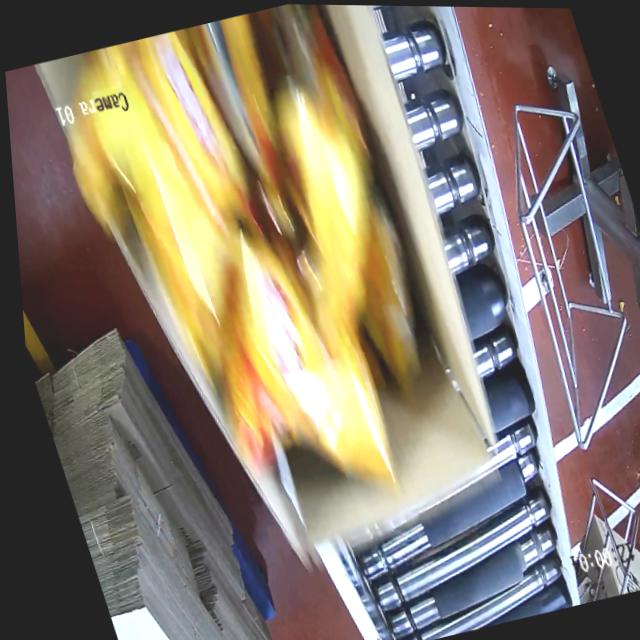FRENCH_CHEESE: (66, 1, 494, 518)
